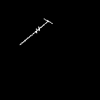treble_crochet: (25, 20, 48, 40)
